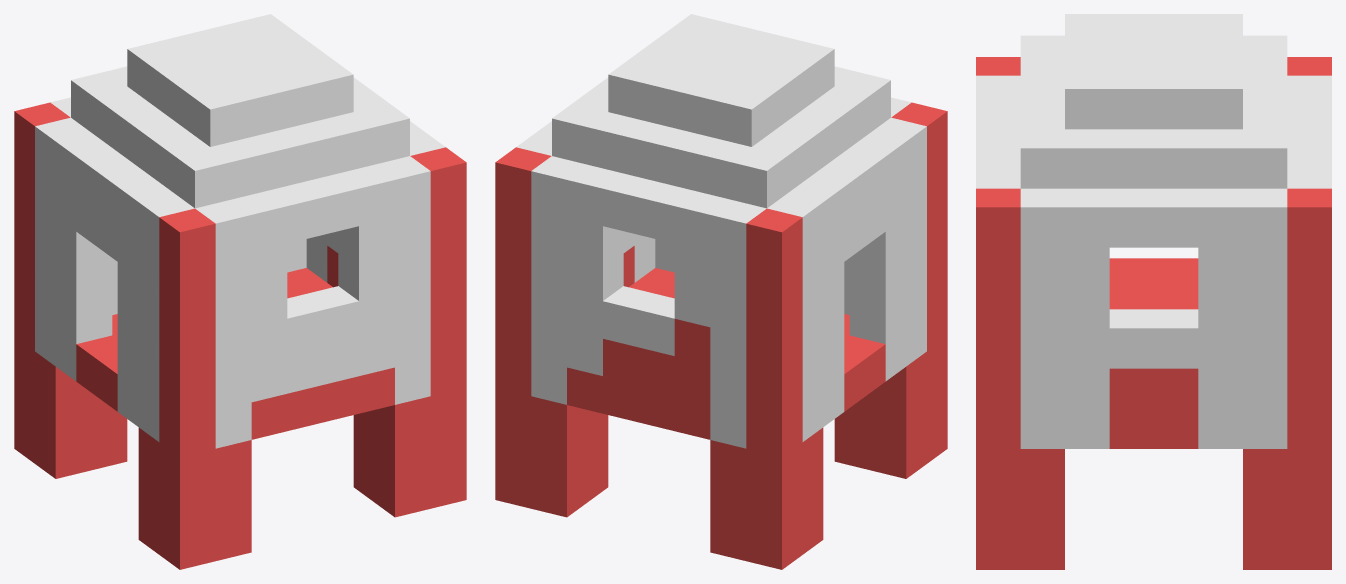
The model's file is 3dslash-16 Oct 26.fbx.
The picture shows the model from 3 angles, left to right: view 1: azimuth 30°, elevation 25°; view 2: azimuth 150°, elevation 25°; view 3: azimuth 270°, elevation 25°; orthographic projection. The views are drawn at different scales.
Parts seen in each view (by area): view 1: default; view 2: default; view 3: default.
Boxes of the visible parts, <box> form: default: <box>14,14,466,569</box>; default: <box>495,14,947,569</box>; default: <box>976,14,1331,569</box>.
Bounding box in the file's own units: 64 × 88 × 64.
